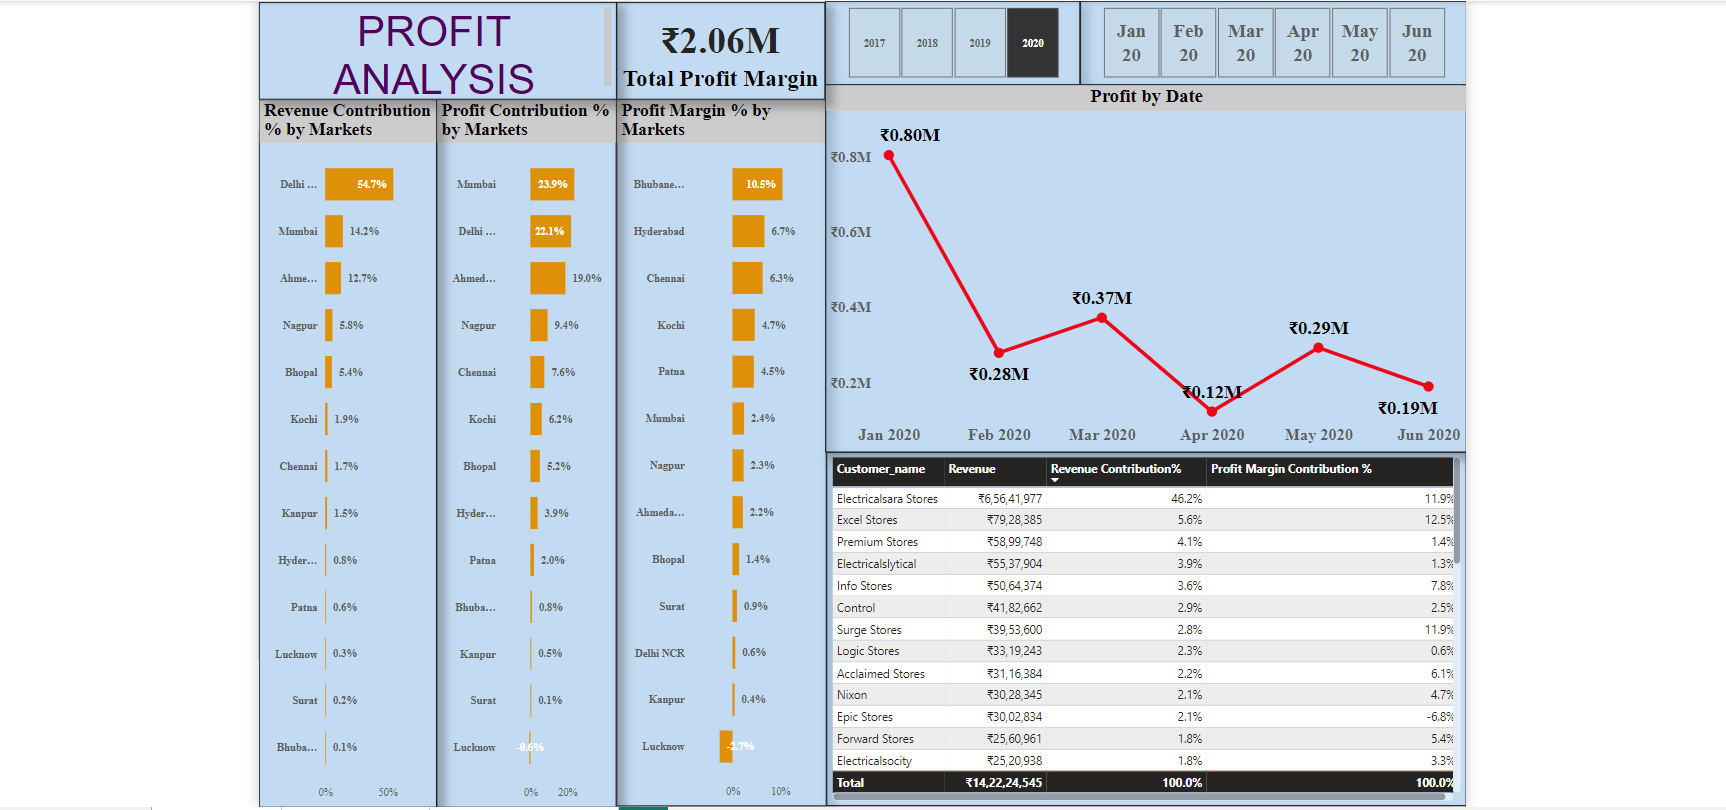

The page's visual inventory and layout, read from the dashboard file:
{"tool":"powerbi","page":{"name":"Profit Analysis","canvas":[1380,921],"ordinal":1},"visuals":[{"type":"barChart","title":"Profit Margin % by Markets","fields":{"Category":["sales markets.markets_name"],"Y":["Base Measure.Profit Margin %"]},"box":[408.5,112.8,240,807],"z":0},{"type":"barChart","title":"Profit Contribution % by Markets","fields":{"Category":["sales markets.markets_name"],"Y":["Base Measure.Profit Margin Contribution %"]},"box":[202.8,112.8,205.7,808.4],"z":1000},{"type":"slicer","fields":{"Values":["sales date.year"]},"box":[647,0,291.4,95.7],"z":2000},{"type":"slicer","fields":{"Values":["sales date.cy_date"]},"box":[938.4,0,441.4,95.7],"z":3000},{"type":"tableEx","title":"Top 5 Customers","fields":{"Values":["sales customers.custmer_name","Base Measure.Revenue","Base Measure.Revenue Contribution%","Base Measure.Profit Margin Contribution %"]},"box":[648.5,515.6,731.3,404.2],"z":4000},{"type":"lineChart","title":"Profit by Date","fields":{"Category":["sales date.cy_date"],"Y":["Base Measure.Total Profit Margin"]},"box":[647,95.7,732.7,419.9],"z":5000},{"type":"card","fields":{"Values":["Base Measure.Total_profit_Margin"]},"box":[408.5,1.4,238.5,111.4],"z":6000},{"type":"barChart","title":"Revenue Contribution %  by Markets","fields":{"Category":["sales markets.markets_name"],"Y":["Base Measure.Revenue Contribution%"]},"box":[0,112.8,202.8,808.4],"z":7000},{"type":"textbox","box":[0,1.4,408.5,111.4],"z":8000}]}

Visuals, with their boxes on the page's 1380x921 design canvas (x1, y1, x2, y2). These are canvas units, not pixel positions in the 1726x810 screenshot, which may show the page scaled, cropped or inside an application window:
"Profit Margin % by Markets" barChart: crop(408, 113, 648, 920)
"Profit Contribution % by Markets" barChart: crop(203, 113, 408, 921)
slicer - sales date.year: crop(647, 0, 938, 96)
slicer - sales date.cy_date: crop(938, 0, 1380, 96)
"Top 5 Customers" tableEx: crop(648, 516, 1380, 920)
"Profit by Date" lineChart: crop(647, 96, 1380, 516)
card - Base Measure.Total_profit_Margin: crop(408, 1, 647, 113)
"Revenue Contribution %  by Markets" barChart: crop(0, 113, 203, 921)
textbox: crop(0, 1, 408, 113)
